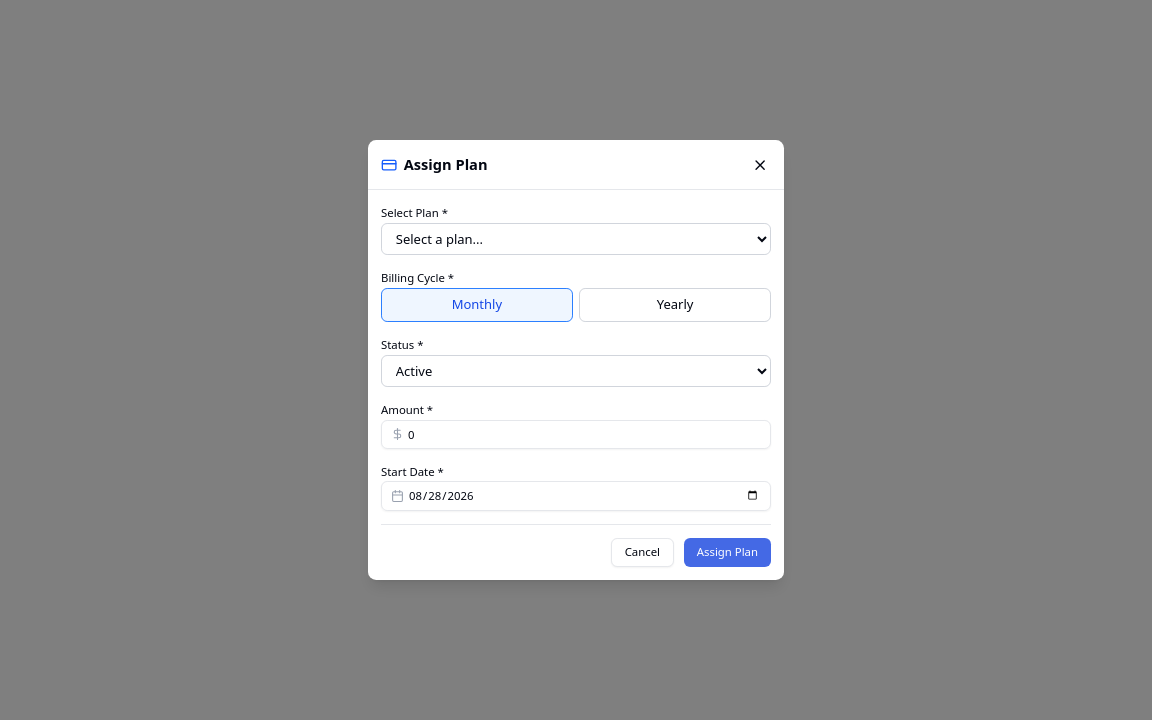
Test: AssignPlanModal yearly amount › bills twelve full months and shows no badge for a plan without a discount
Select "Starter - $1000/monthly" in the dropdown labelled "Select Plan *" at (576, 239), box x1=381 y1=222 x2=771 y2=255
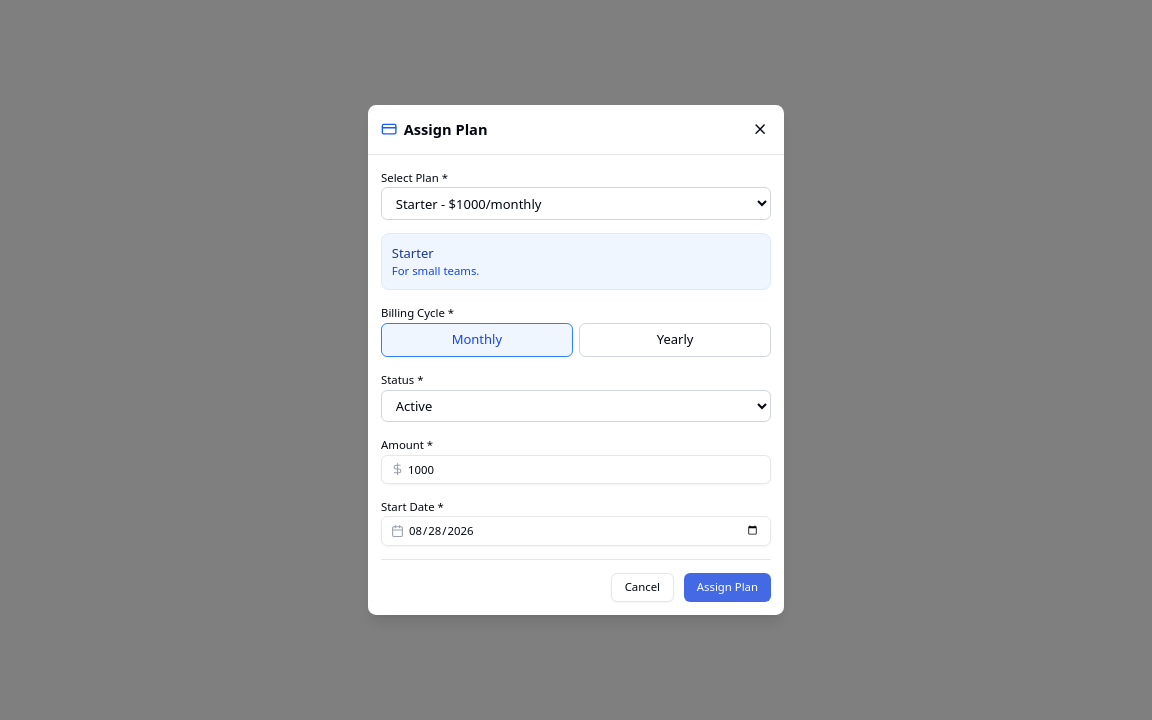
Click the button "Yearly" at (675, 340), box x1=579 y1=323 x2=771 y2=357
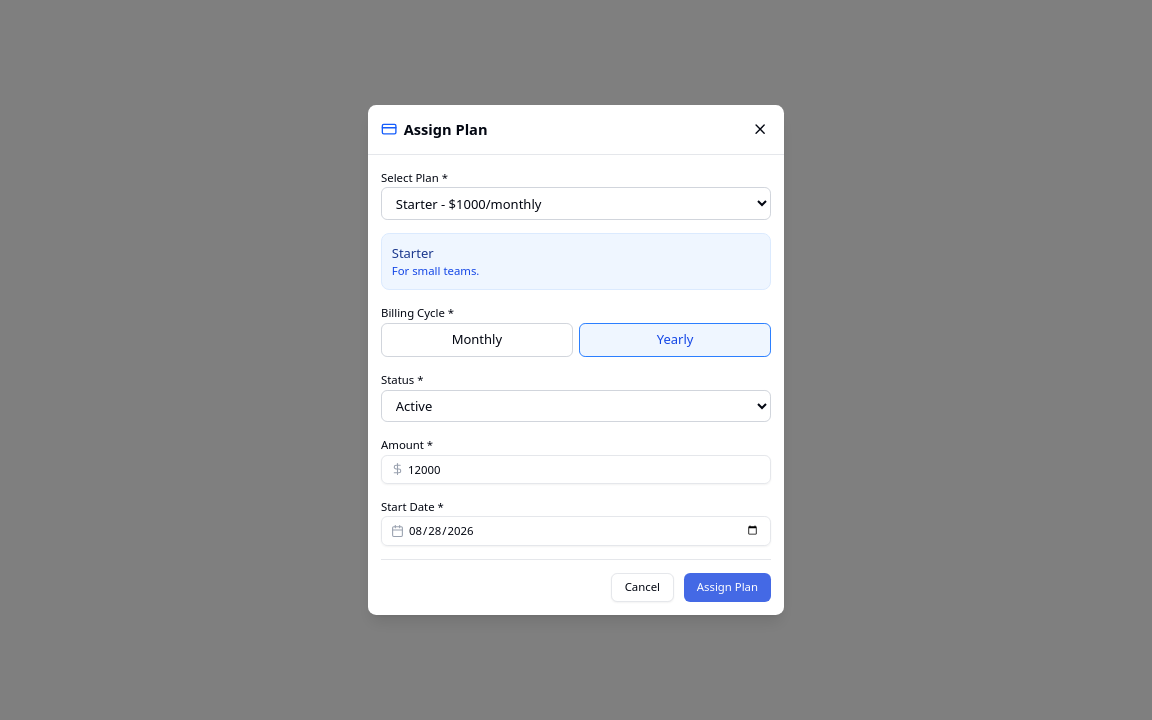
Now the number field labelled "Amount *" holds "12000", box x1=381 y1=455 x2=771 y2=484
